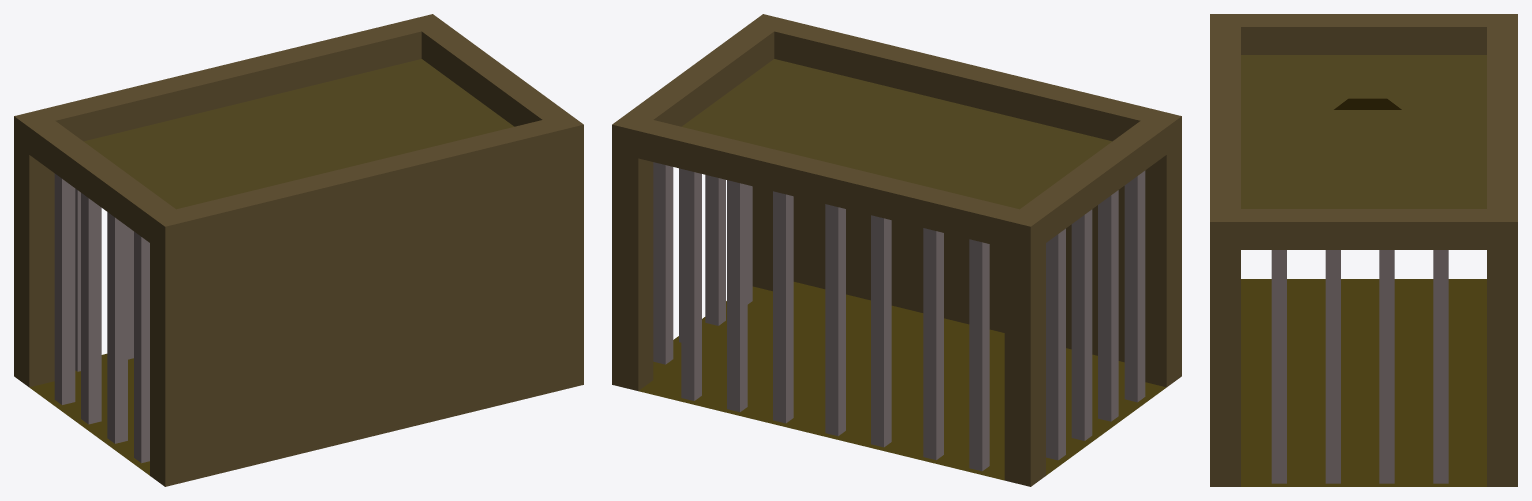
3 views of the same model, side by side, from view 1: azimuth 30°, elevation 25°; view 2: azimuth 150°, elevation 25°; view 3: azimuth 270°, elevation 25° (orthographic).
Bounding box in the file's own units: 1 × 0.5938 × 0.625.
